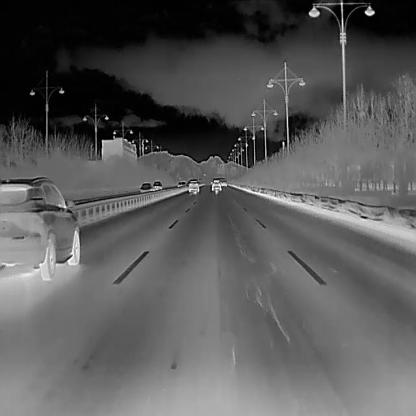car: (0, 174, 80, 280), (186, 179, 200, 194), (210, 178, 222, 192), (138, 181, 153, 192), (151, 180, 162, 190), (219, 179, 227, 186), (177, 180, 182, 187), (181, 180, 186, 185)
